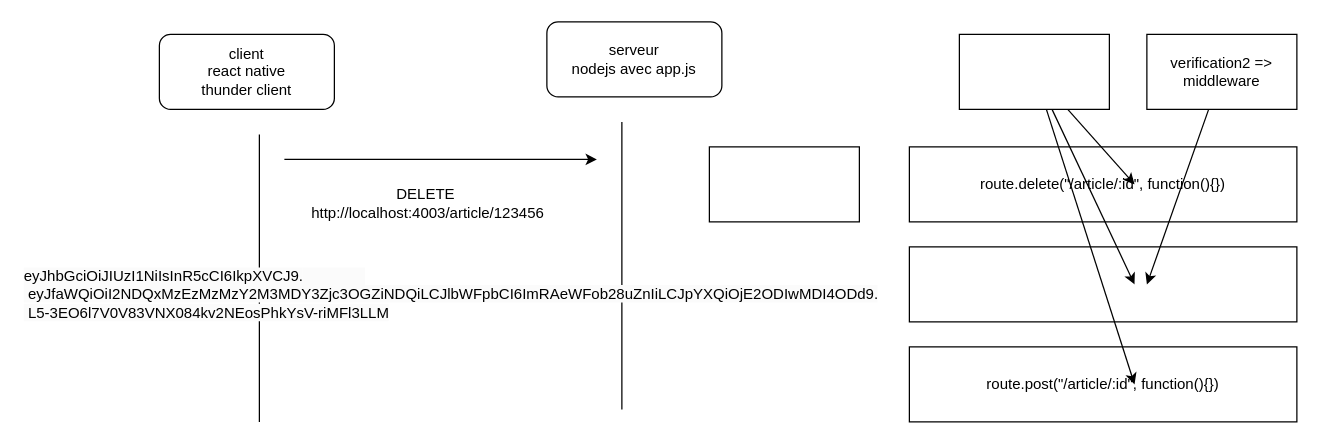
Some shapes in this 1319 by 445 pixel diagram are drawn without their labels. The centre of each missing label's shape, as x and y in pixels:
route.js: [783,184]
route.put("/article/:id", function(){}): [1102,284]
verification1 => middleware: [1033,71]
